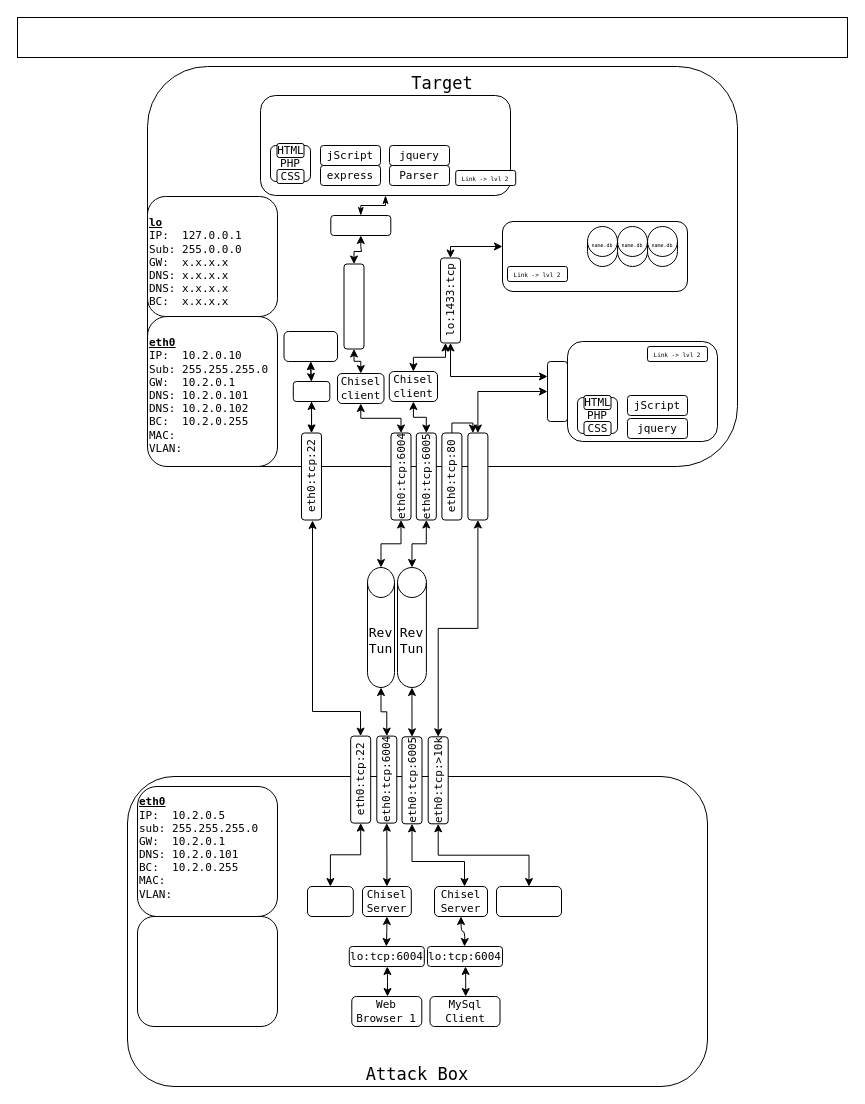
The diagram is 865 pixels wide and 1104 high, and some of its shapes have lost their labels. Here are the shapes that lost their labels. From the top down, the box of each, then its label:
(16, 16, 848, 58): Reverse Tunnel
(260, 94, 510, 196): nginx 1.14.2 /var/www/laravel /etc/apache2/sites-enabled/mgmt.conf
(330, 214, 391, 236): vHosts
(502, 220, 688, 292): MySQL /opt/MySql/
(343, 263, 364, 349): lo:8080:tcp
(283, 330, 338, 362): OpenSSH 7.9p2
(292, 380, 330, 402): SSH
(546, 360, 568, 422): httpd
(566, 340, 718, 442): Apache2 /var/www/html /etc/apache2/
(467, 432, 488, 520): eth:tcp:443
(306, 886, 353, 916): SSH Client
(496, 886, 562, 916): Web Browser 2
(136, 916, 278, 1026): lo IP: 127.0.0.1 Sub: 255.0.0.0 GW. n/a DNS: n/a BC: n/a
